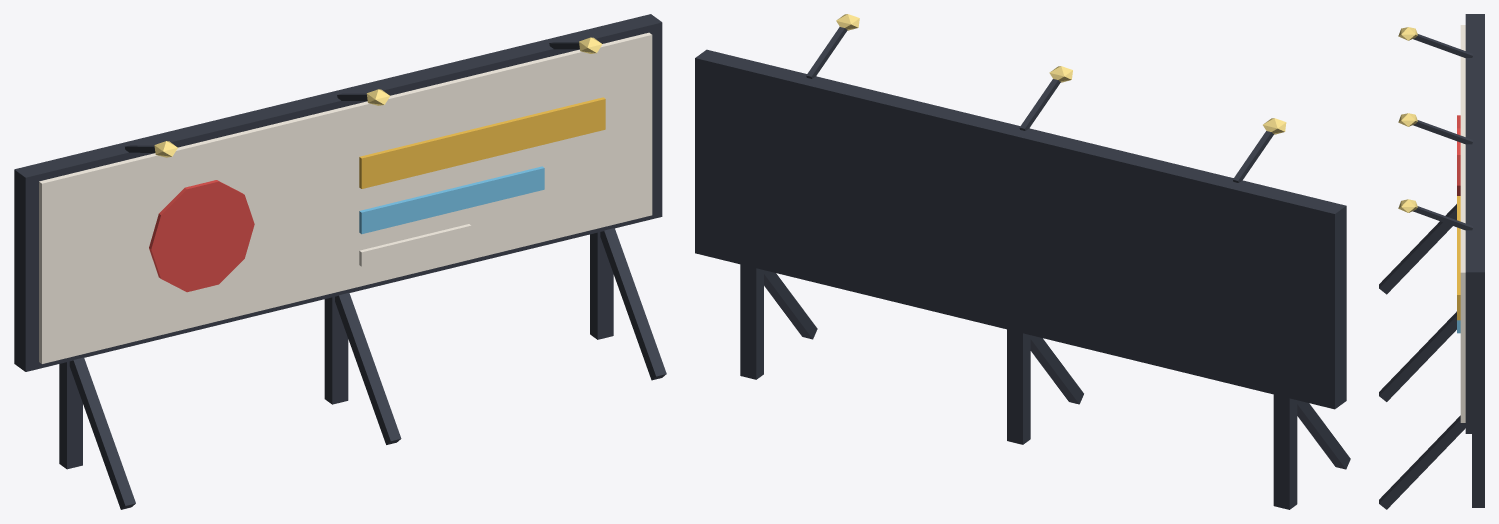
The model's file is billboard_rooftop.glb.
3 renders of one model, left to right at view 1: azimuth 30°, elevation 25°; view 2: azimuth 150°, elevation 25°; view 3: azimuth 270°, elevation 25°, orthographic. The views are drawn at different scales.
Parts seen in each view (by area): view 1: billboard_rooftop; view 2: billboard_rooftop; view 3: billboard_rooftop.
Boxes of the visible parts, x1,y1,x2,y2 form: billboard_rooftop: (14, 14, 666, 509); billboard_rooftop: (695, 14, 1350, 509); billboard_rooftop: (1379, 14, 1484, 509).
Size of the model in its own units: 0.48 by 0.2486 by 0.083.
